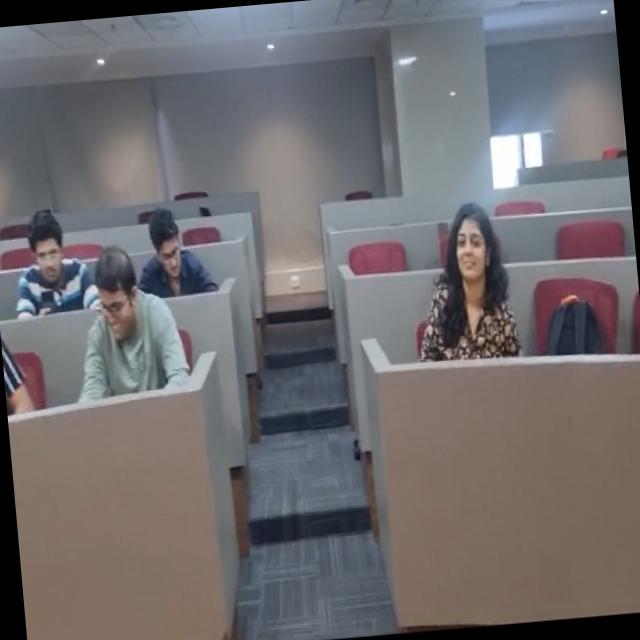cheating: (2, 192, 116, 331), (83, 255, 169, 354)
non-cheating: (405, 189, 533, 370), (134, 198, 209, 298)
